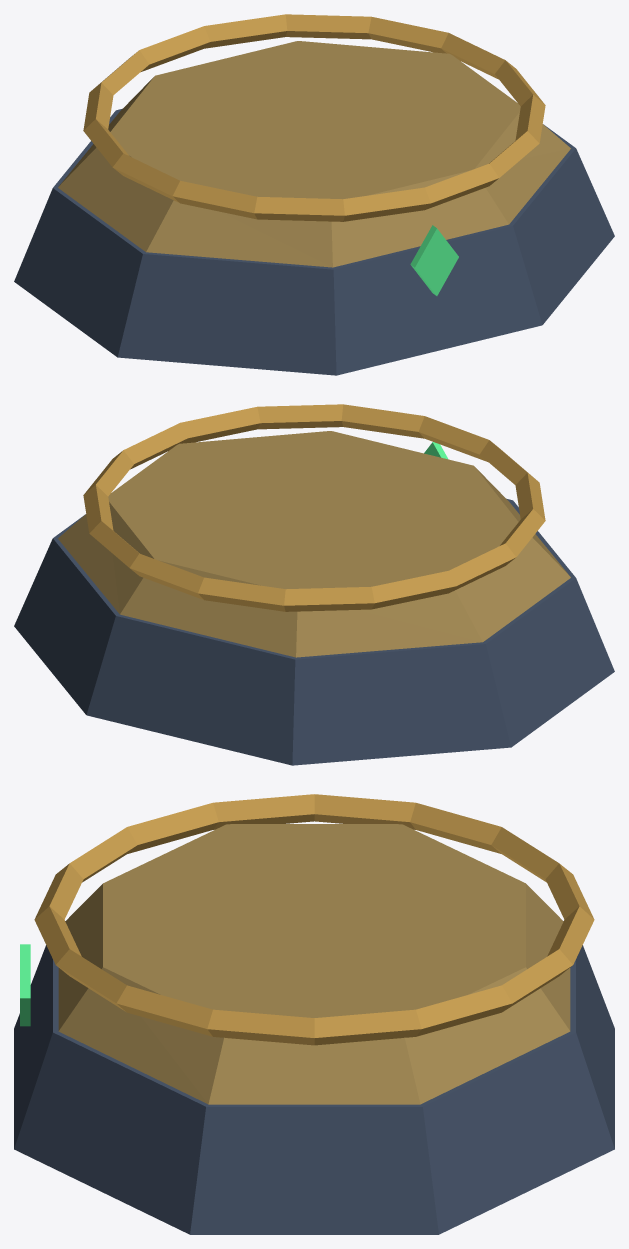
The model's file is octagonal_stone_base.obj.
3 renders of one model, top to bottom at view 1: azimuth 30°, elevation 25°; view 2: azimuth 150°, elevation 25°; view 3: azimuth 270°, elevation 25°, orthographic. The views are drawn at different scales.
Parts seen in each view (by area): view 1: octagonal_stone_upper, octagonal_stone_lower, stone_base_rim, base_core; view 2: octagonal_stone_upper, octagonal_stone_lower, stone_base_rim; view 3: octagonal_stone_upper, octagonal_stone_lower, stone_base_rim, base_core_edge.
Part boxes in pixels (box(x1,y1,x2,y2)): octagonal_stone_upper: box(58, 41, 570, 267); octagonal_stone_lower: box(14, 108, 614, 375); stone_base_rim: box(83, 14, 545, 221); base_core: box(415, 228, 458, 295); octagonal_stone_upper: box(58, 431, 570, 657); octagonal_stone_lower: box(14, 498, 614, 765); stone_base_rim: box(83, 404, 545, 611); octagonal_stone_upper: box(58, 824, 570, 1104); octagonal_stone_lower: box(14, 945, 614, 1234); stone_base_rim: box(34, 794, 594, 1045); base_core_edge: box(20, 944, 30, 1026).
Size of the model in its own units: 1.15 by 0.335 by 0.9978.
